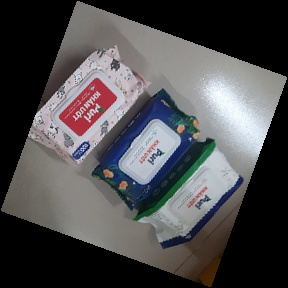Puri Trang: (133, 137, 244, 251)
Puri Xanh: (90, 87, 202, 210)
Puri hong: (29, 44, 152, 164)
